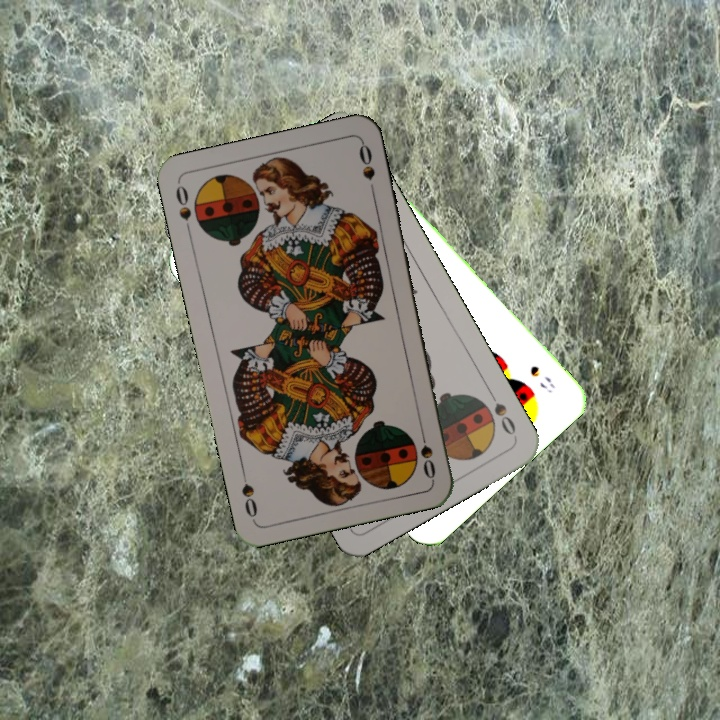S8: (525, 361, 558, 396)
SO: (484, 386, 519, 441), (415, 423, 438, 482), (171, 181, 194, 238)
